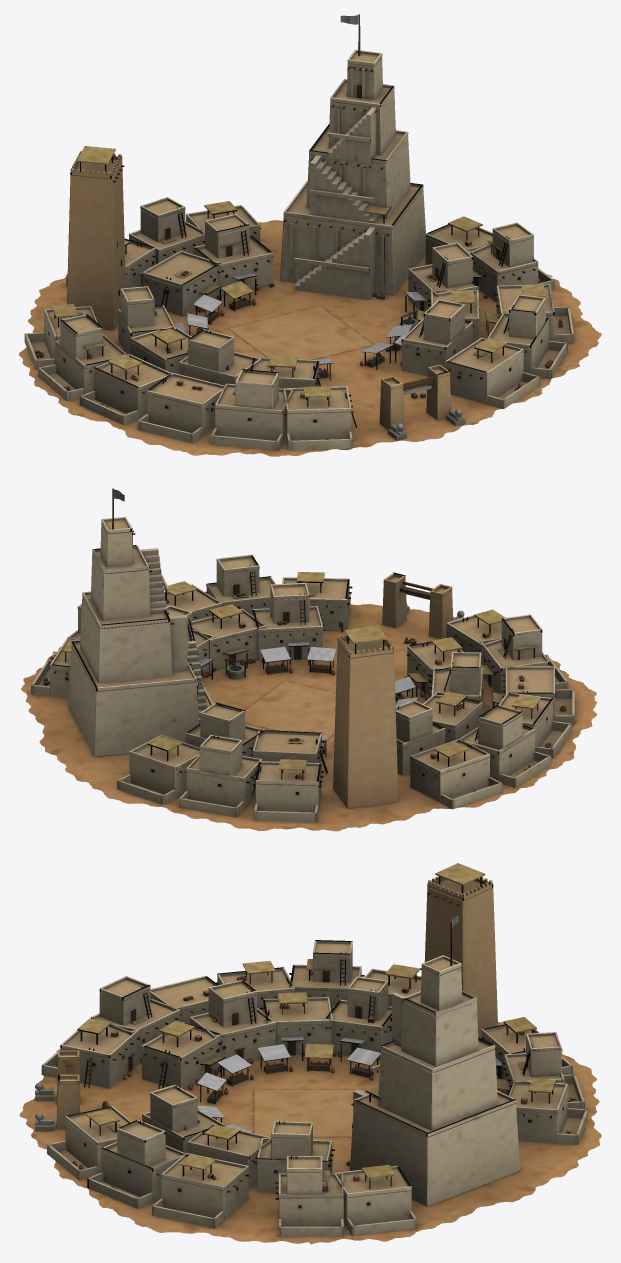
File: bronze-town-big-a.glb
3 views of the same model, one above another, from view 1: azimuth 30°, elevation 25°; view 2: azimuth 150°, elevation 25°; view 3: azimuth 270°, elevation 25° (orthographic). The views are drawn at different scales.
Visible parts, largest first — view 1: LOD0; view 2: LOD0; view 3: LOD0.
Boxes of the visible parts, x1,y1,x2,y2 form: LOD0: [19, 14, 601, 456]; LOD0: [21, 488, 597, 831]; LOD0: [19, 863, 601, 1244].
Size of what is drawn, in the model's own units: 7.93 by 3.6 by 7.49.
Materials: 3 (3 with a texture image).
